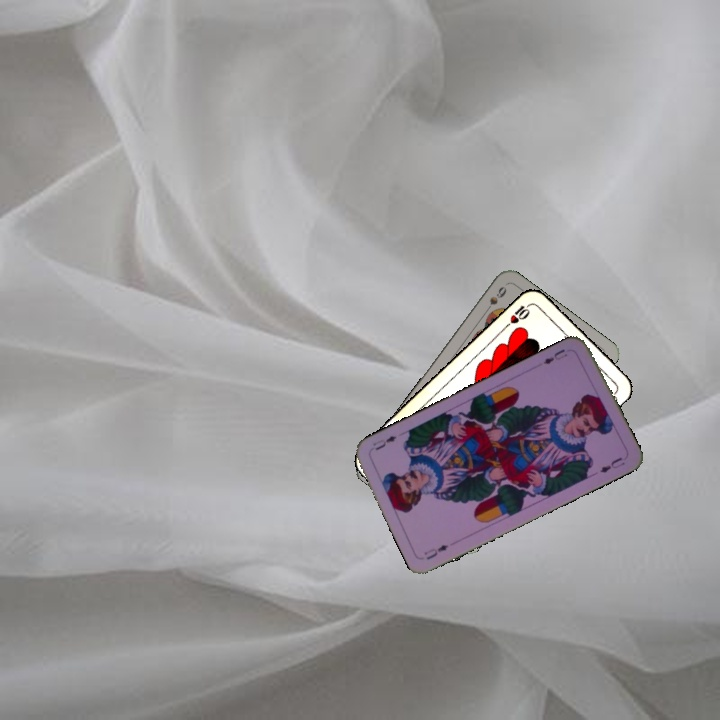EU: (539, 345, 570, 367), (420, 540, 451, 562)
H10: (506, 299, 535, 326)
S9: (480, 282, 509, 319)
